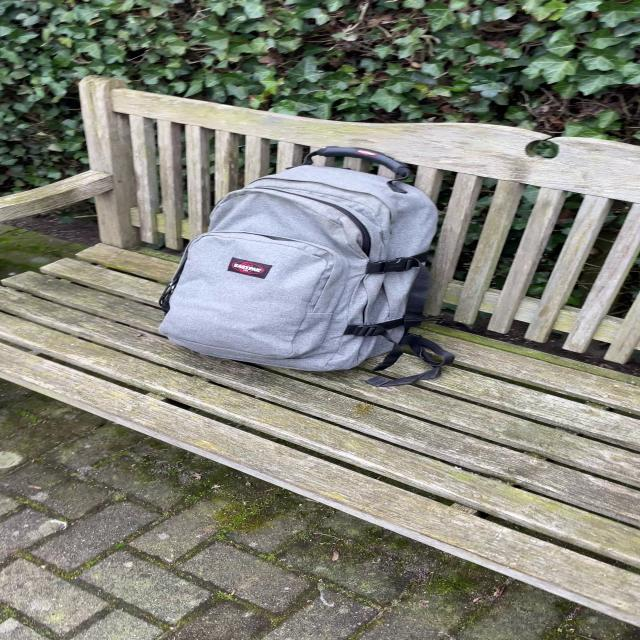backpack: (152, 140, 465, 383)
